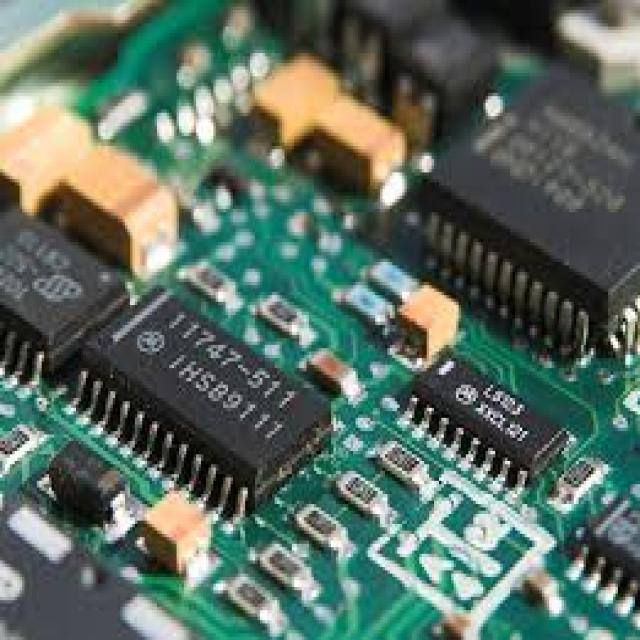pcb: (0, 0, 638, 637), (353, 53, 638, 362), (397, 345, 569, 494)
